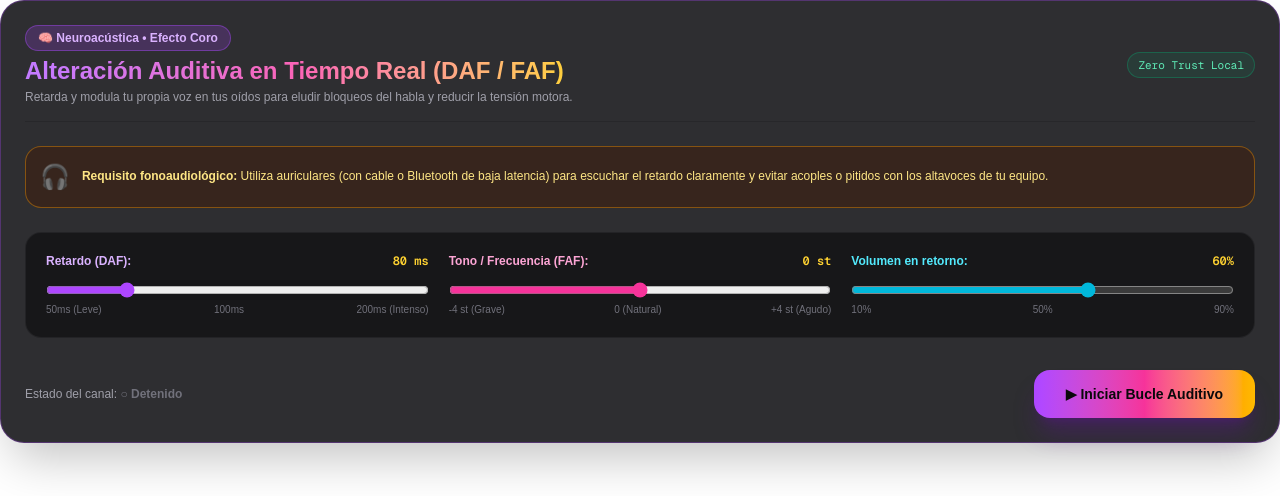
Scenario: AlteredAuditoryTrainer Component › permite ajustar el slider de retardo DAF
Set the slider named "Retardo DAF en milisegundos" to "140". click: (274,290)
box: [46,286,429,294]
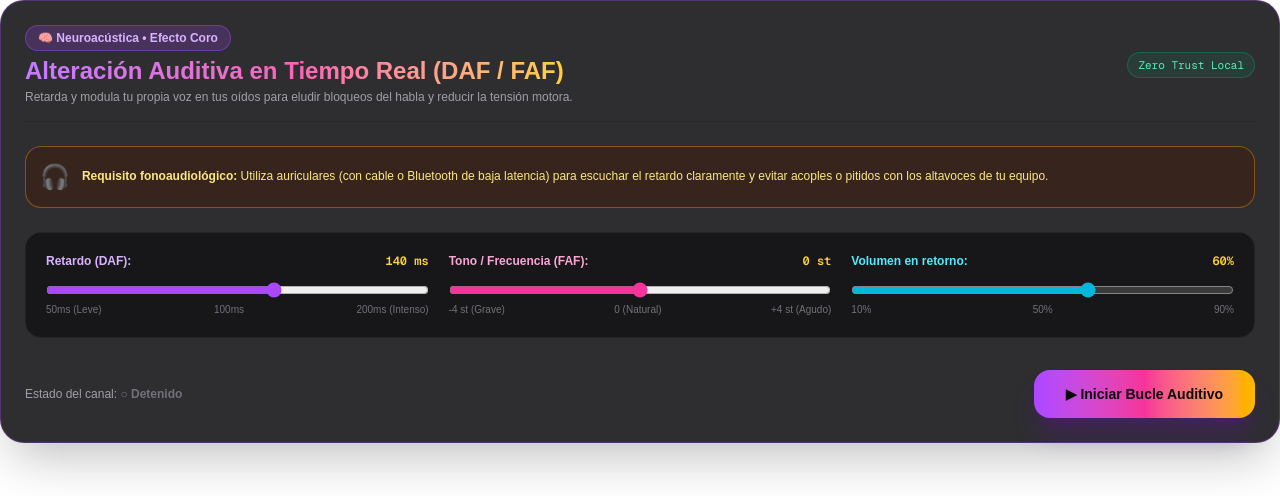
Now the text "140 ms" is shown, box [385,253,429,269]
